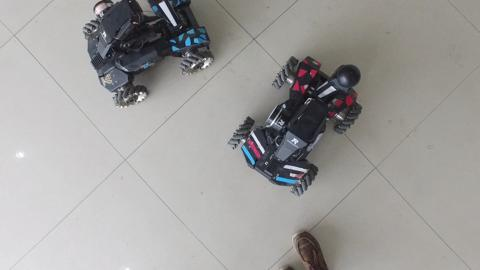chariot: (224, 53, 374, 200), (79, 1, 222, 112)
